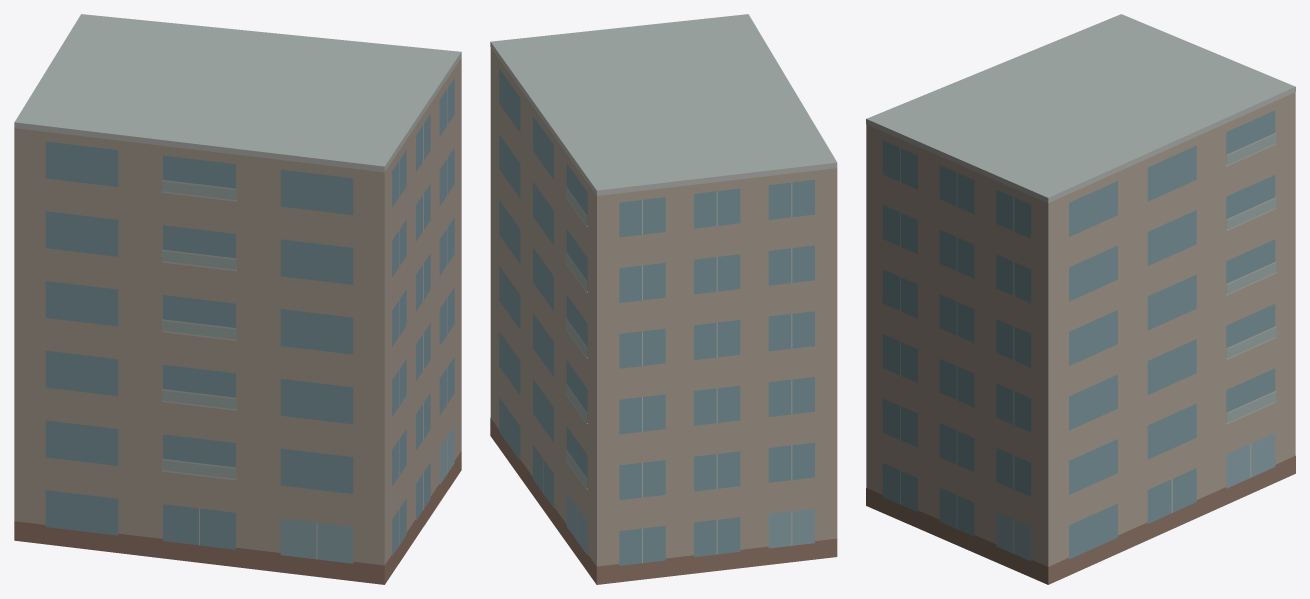
File: survey-upis-32508997.glb
3 views of the same model, side by side, from view 1: azimuth 30°, elevation 25°; view 2: azimuth 150°, elevation 25°; view 3: azimuth 270°, elevation 25° (orthographic). The views are drawn at different scales.
Parts seen in each view (by area): view 1: survey-upis-32508997.tmp; view 2: survey-upis-32508997.tmp; view 3: survey-upis-32508997.tmp.
Part boxes in pixels (box(x1,y1,x2,y2)): survey-upis-32508997.tmp: box(14, 14, 461, 584); survey-upis-32508997.tmp: box(490, 14, 837, 584); survey-upis-32508997.tmp: box(866, 14, 1295, 584).
Bounding box in the file's own units: 18.05 × 17.7 × 17.82.
